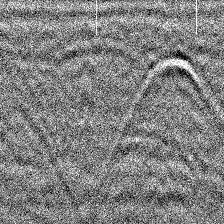Utility: (131, 50, 220, 114)
